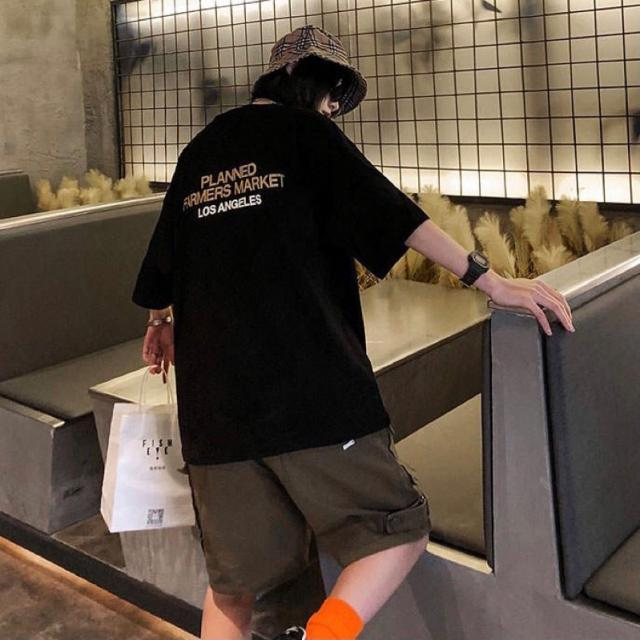Shirt: (126, 98, 437, 474)
